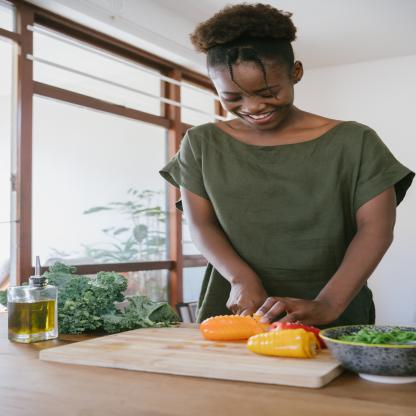Eye: (258, 88, 280, 100), (222, 94, 244, 104)
Mouth: (239, 109, 281, 123)
Nose: (241, 100, 269, 115)
